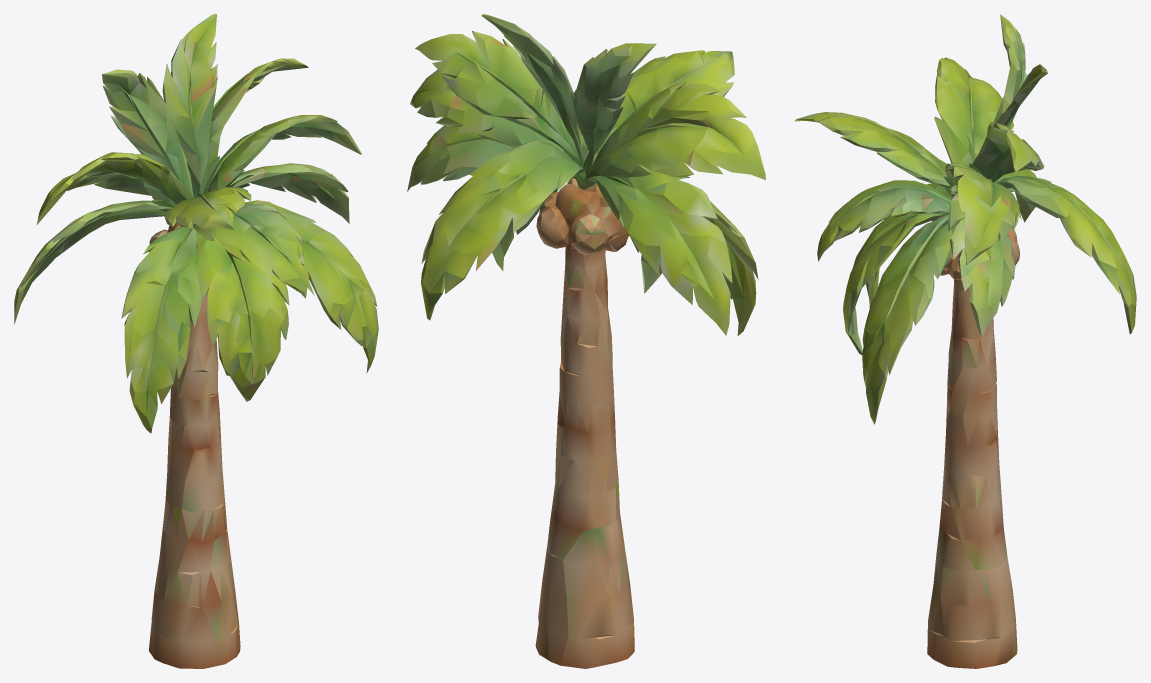
File: palm.glb
The picture shows the model from 3 angles, left to right: view 1: azimuth 30°, elevation 25°; view 2: azimuth 150°, elevation 25°; view 3: azimuth 270°, elevation 25°; orthographic projection. The views are drawn at different scales.
Parts seen in each view (by area): view 1: geometry_0; view 2: geometry_0; view 3: geometry_0.
Boxes of the visible parts, left/top/right/bottom form: geometry_0: left=14, top=14, right=378, bottom=668; geometry_0: left=407, top=14, right=765, bottom=668; geometry_0: left=794, top=14, right=1136, bottom=668.
Size of the model in its own units: 3.38 by 5.89 by 3.01.
